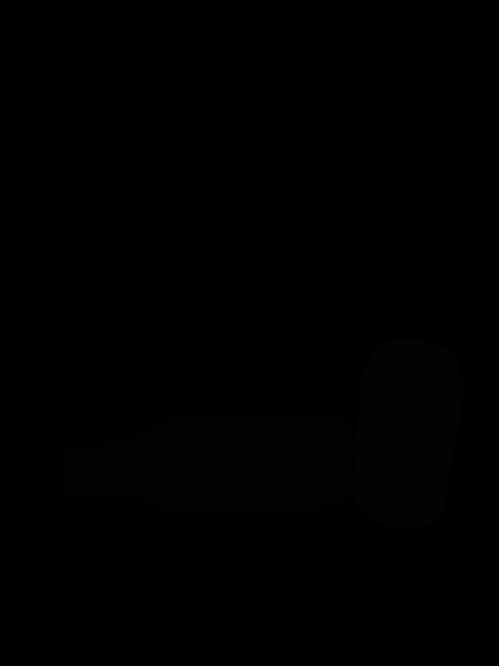can: (353, 338, 467, 532)
carton: (54, 168, 194, 461)
water_bottle: (59, 410, 359, 517)
